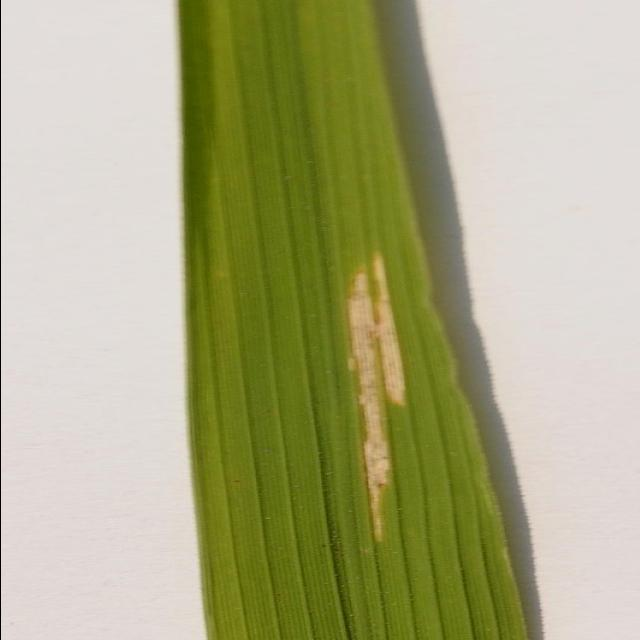Bacterial_Leaf_Blight: (294, 243, 460, 568)
